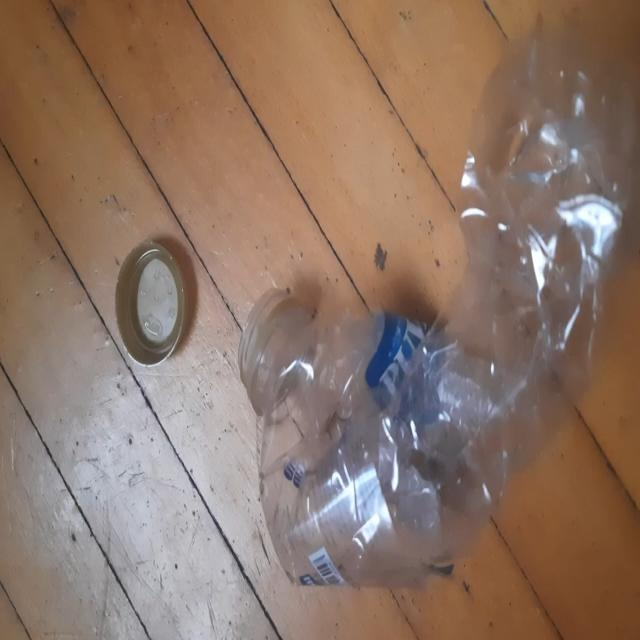Plastic: (244, 21, 636, 588)
